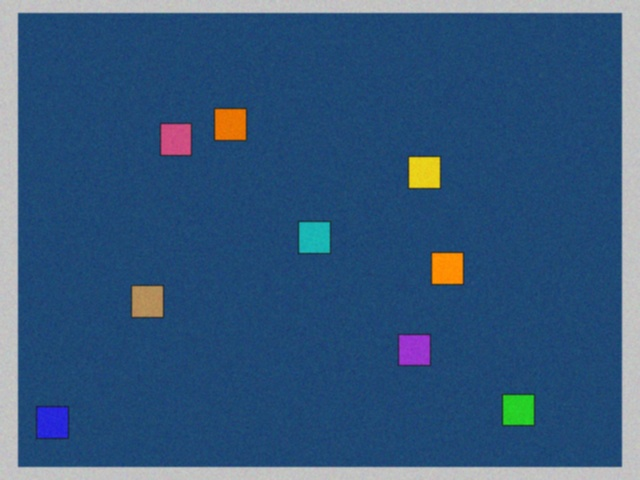block: (36, 397, 82, 438), (493, 386, 534, 426), (131, 283, 172, 318), (160, 124, 199, 160), (214, 108, 250, 146), (395, 329, 431, 366), (403, 157, 440, 192), (425, 252, 463, 285), (298, 222, 330, 254)
